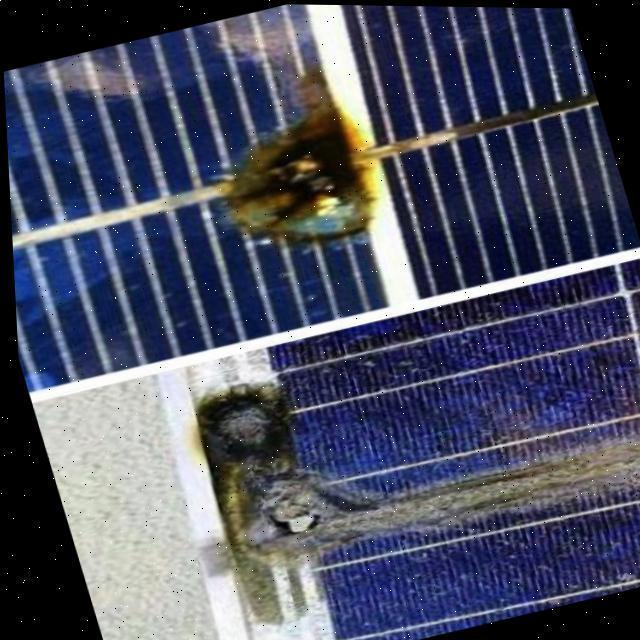Anomaly Solar Panel: (0, 0, 640, 403), (141, 243, 640, 640)
Structural Damage: (171, 283, 640, 637), (170, 54, 400, 272)
